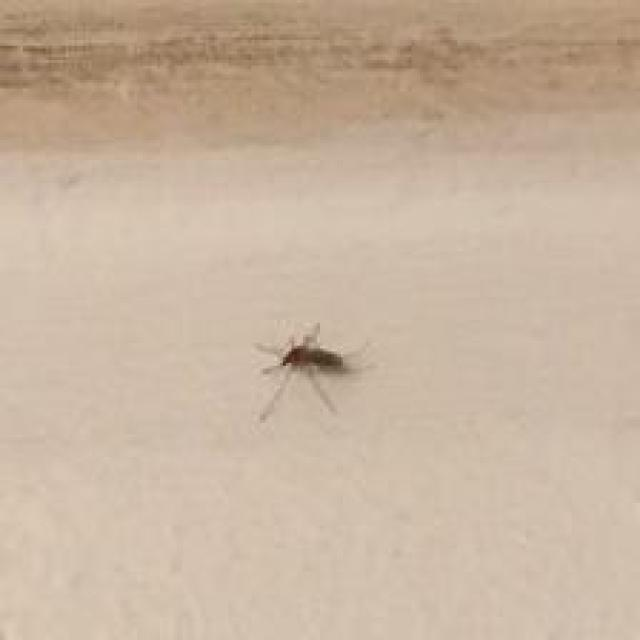Culex: (252, 320, 374, 423)
